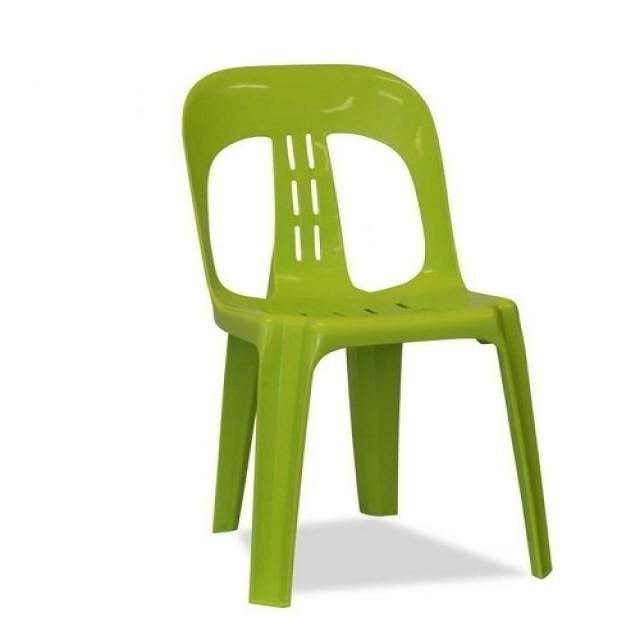chair: (179, 59, 557, 608)
